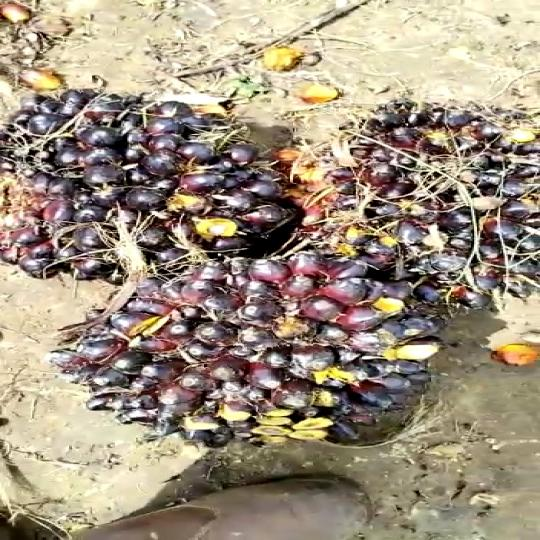mentah: (51, 242, 476, 477), (7, 90, 316, 282), (317, 86, 540, 308)
